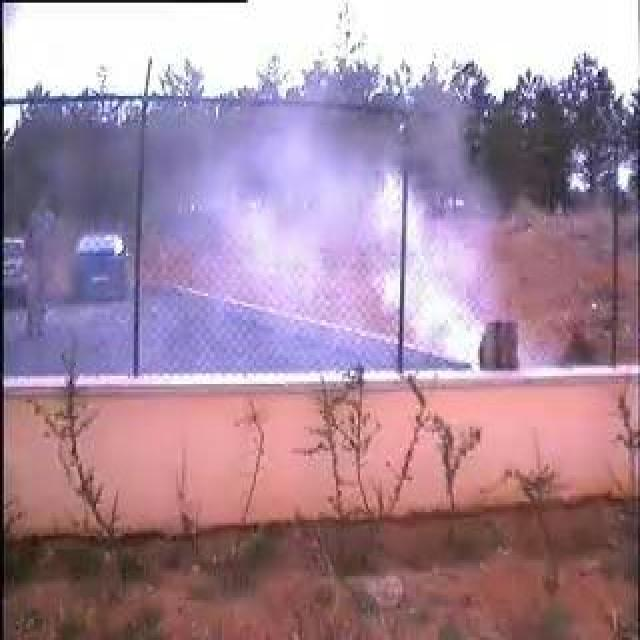Smoke: (205, 107, 497, 365)
